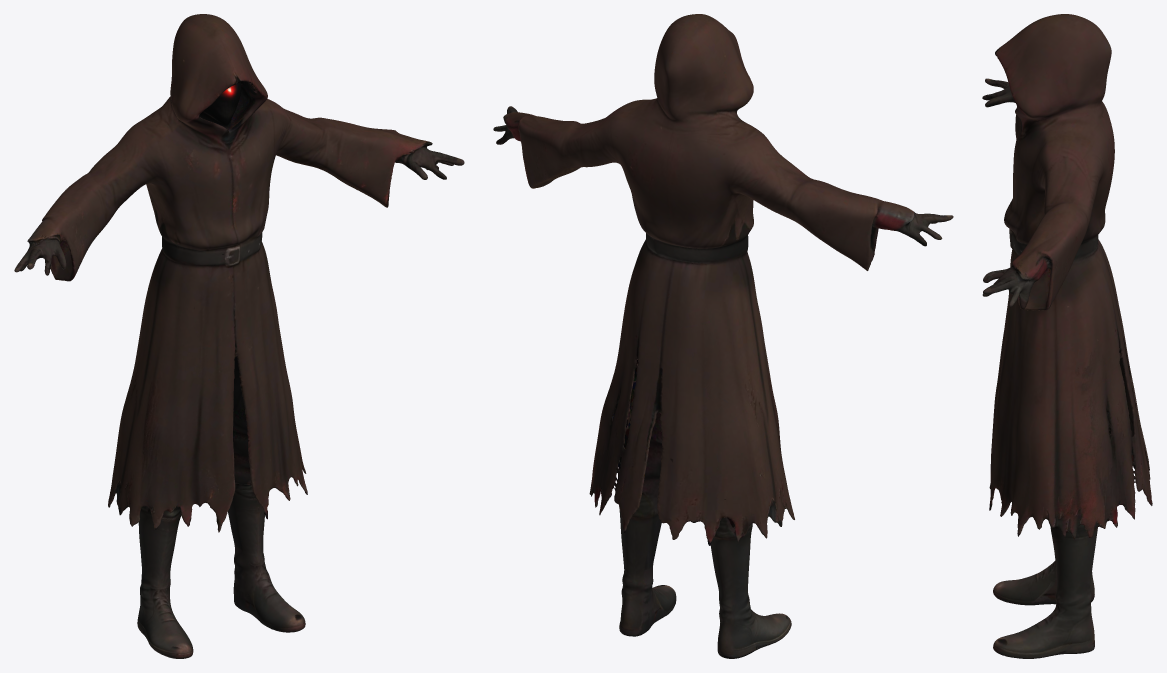
File: guadian.fbx
3 renders of one model, left to right at view 1: azimuth 30°, elevation 25°; view 2: azimuth 150°, elevation 25°; view 3: azimuth 270°, elevation 25°, orthographic. The views are drawn at different scales.
Parts seen in each view (by area): view 1: Mesh_0; view 2: Mesh_0; view 3: Mesh_0.
Part boxes in pixels (x1,y1,x2,y2): Mesh_0: [14, 14, 464, 658]; Mesh_0: [493, 14, 953, 658]; Mesh_0: [982, 14, 1152, 658].
Bounding box in the file's own units: 151 × 199 × 50.48.
